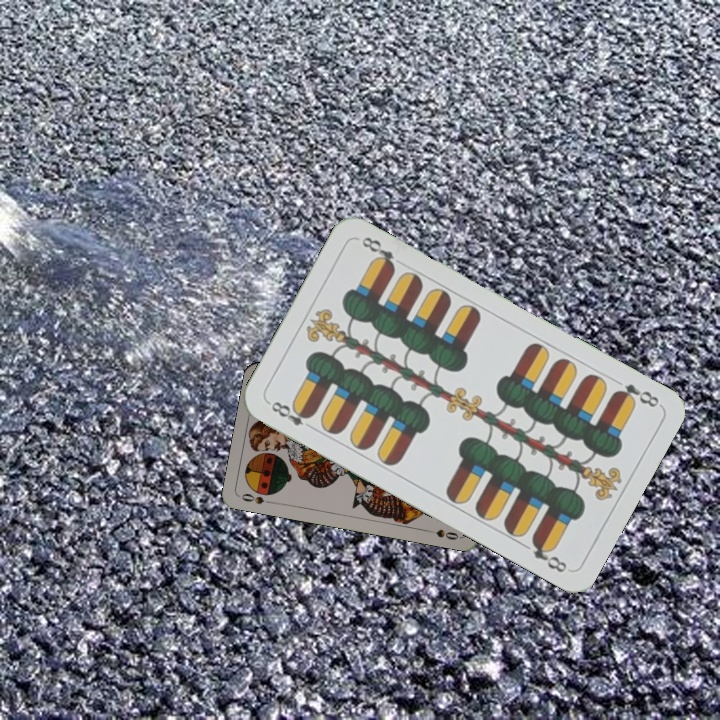E8: (264, 397, 317, 433), (609, 379, 662, 411)
SO: (237, 489, 276, 507)
